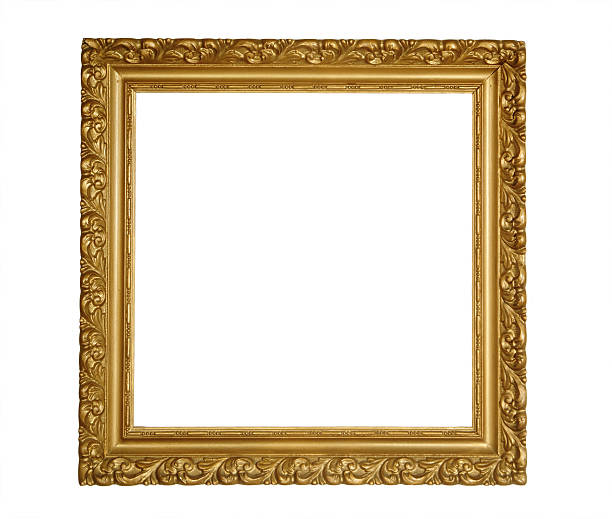kare: (79, 36, 529, 486)
